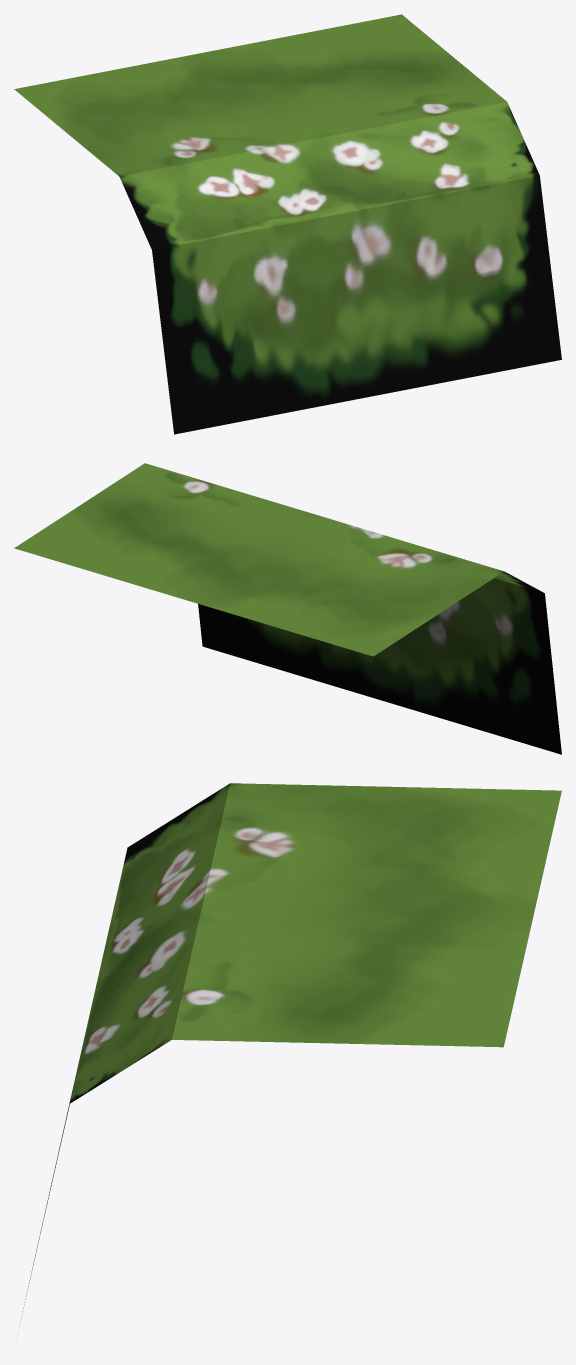
Rendered from bush2.fbx.
3 renders of one model, top to bottom at view 1: azimuth 30°, elevation 25°; view 2: azimuth 150°, elevation 25°; view 3: azimuth 270°, elevation 25°, orthographic. The views are drawn at different scales.
Visible parts, largest first — view 1: Plane.001; view 2: Plane.001; view 3: Plane.001.
Boxes of the visible parts, x1,y1,x2,y2 form: Plane.001: [14, 14, 561, 434]; Plane.001: [14, 463, 561, 754]; Plane.001: [22, 783, 561, 1311].
Size of the model in its own units: 90.28 by 49.19 by 78.52.
